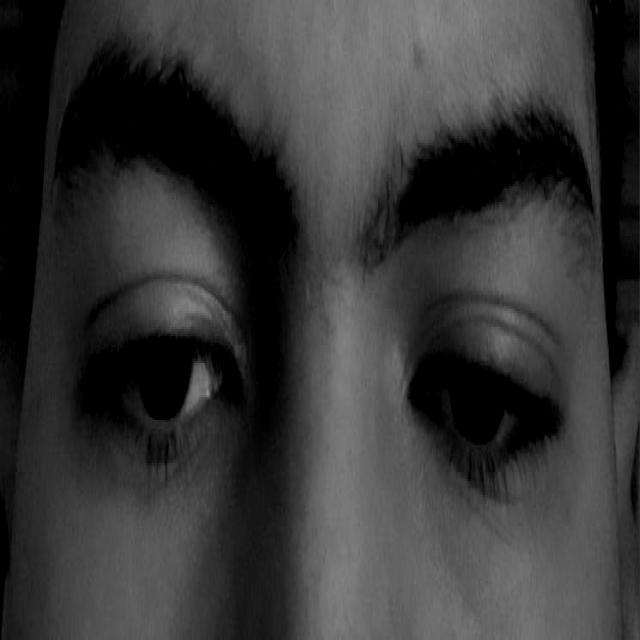real: (54, 98, 580, 568)
